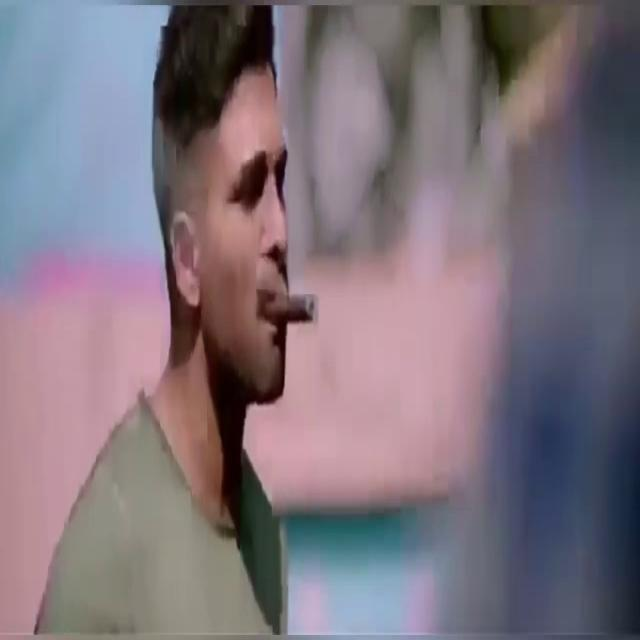smoking: (250, 226, 288, 370)
